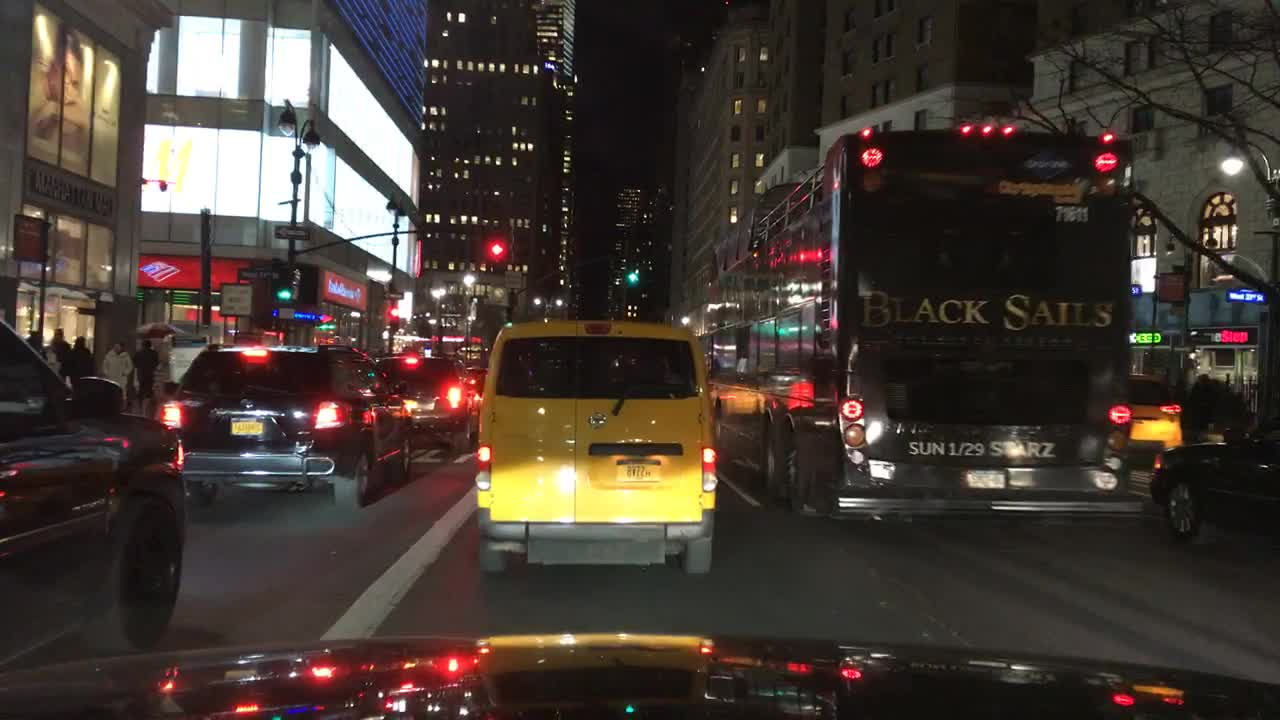bus: (699, 121, 1146, 523)
car: (1, 314, 184, 652), (475, 319, 712, 576), (156, 342, 410, 507), (1150, 418, 1278, 544), (376, 353, 481, 458), (1125, 375, 1182, 467), (467, 364, 485, 391)
person: (132, 337, 160, 417), (101, 342, 130, 407), (64, 336, 93, 388), (48, 325, 70, 382), (25, 328, 48, 359)
traffic light: (274, 287, 294, 301), (491, 238, 504, 257), (623, 269, 638, 283), (388, 303, 400, 317)
traffic sign: (13, 217, 48, 261), (220, 283, 252, 314), (1156, 272, 1186, 301), (236, 265, 279, 279), (274, 224, 310, 240)
